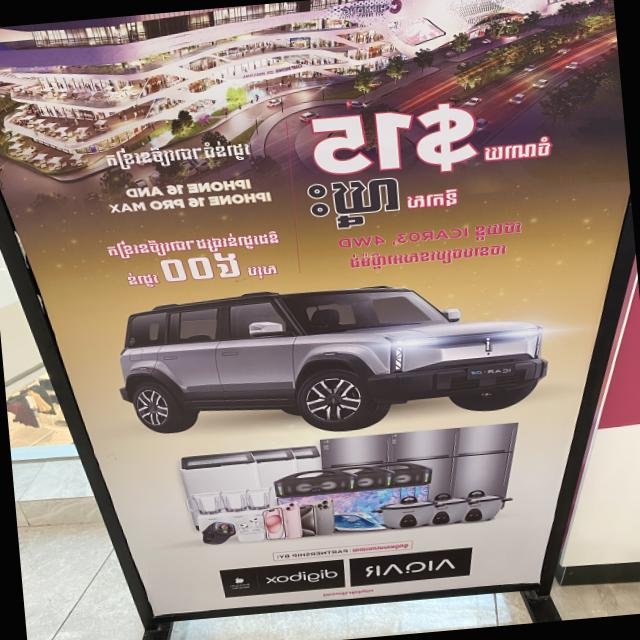120: (299, 96, 482, 179)
598: (184, 195, 207, 209), (162, 183, 186, 196)
705: (372, 229, 409, 249)
Yolov11kh: (301, 171, 405, 232), (102, 226, 283, 260), (344, 241, 508, 274), (101, 138, 252, 172), (152, 250, 247, 285), (481, 134, 555, 161), (403, 186, 461, 210), (471, 219, 523, 242), (122, 271, 163, 290), (245, 264, 278, 279)
